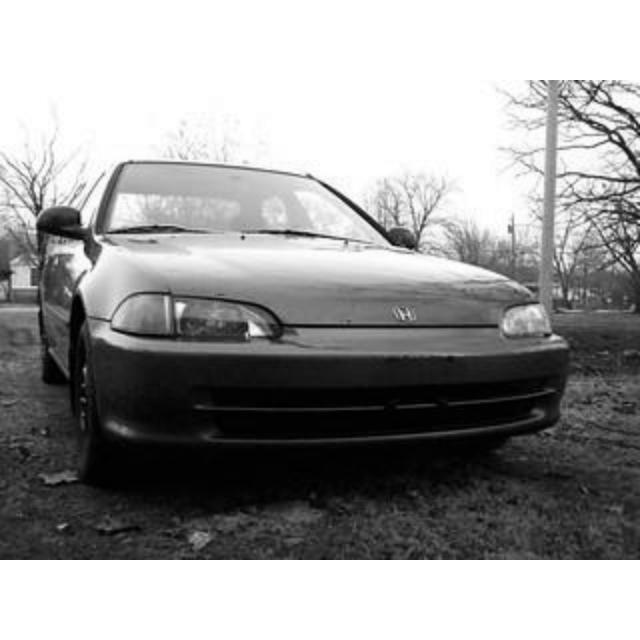bonnet-dent: (100, 224, 528, 316)
